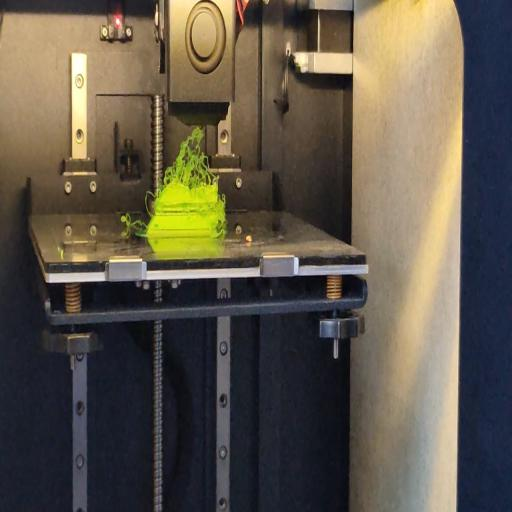spaghetti: (162, 125, 223, 185), (122, 214, 144, 230), (143, 186, 154, 210), (218, 227, 224, 239)
